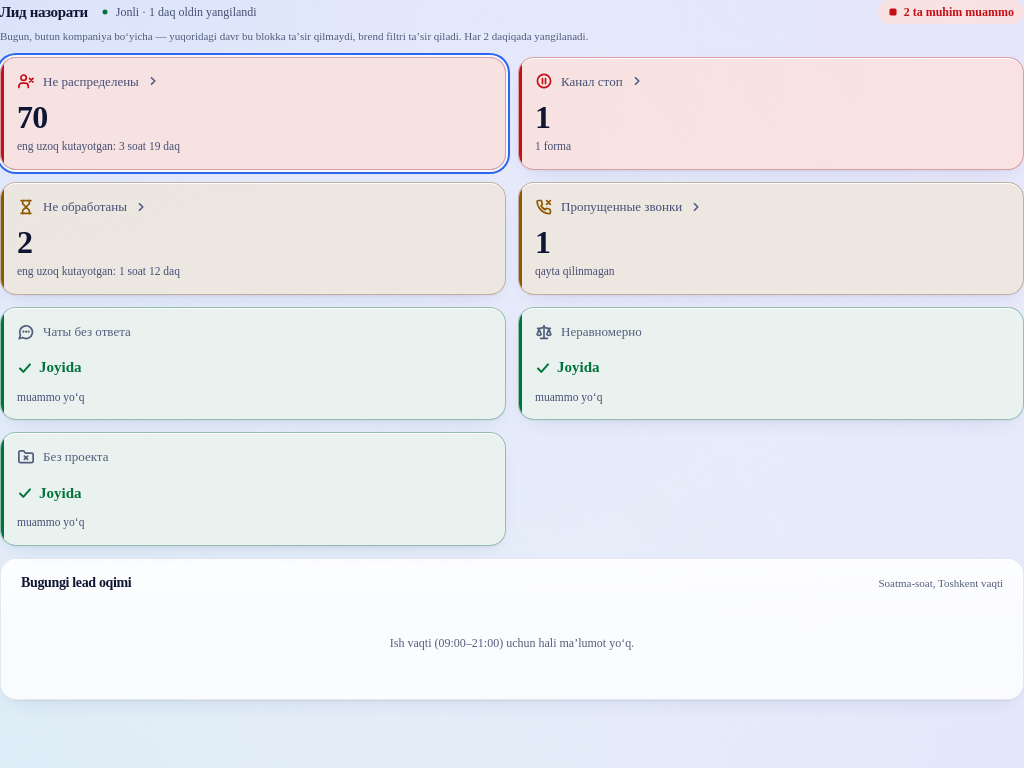
Test: the drawer › lists fifty rows, then twenty more on «Yana 20 ta»
The width and height of the screenshot is (1024, 768).
expect the text "Не распределены" is shown: met, box 43,72 -> 139,91
Step 1. Click the button "Не распределены 70 eng uzoq kutayotgan: 3 soat 19 daq" → {"x": 91, "y": 81}, box 0,56 -> 506,170
(page scrolled)
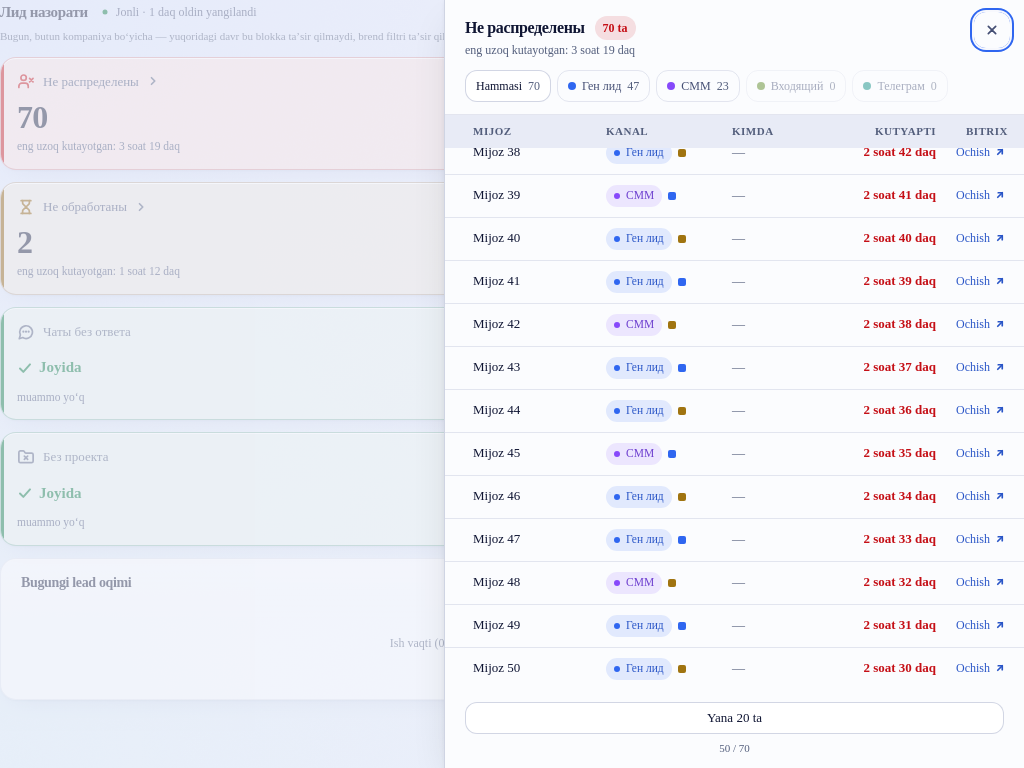
Step 2. Click the button "Yana 20 ta" → {"x": 734, "y": 718}, box 465,702 -> 1004,734
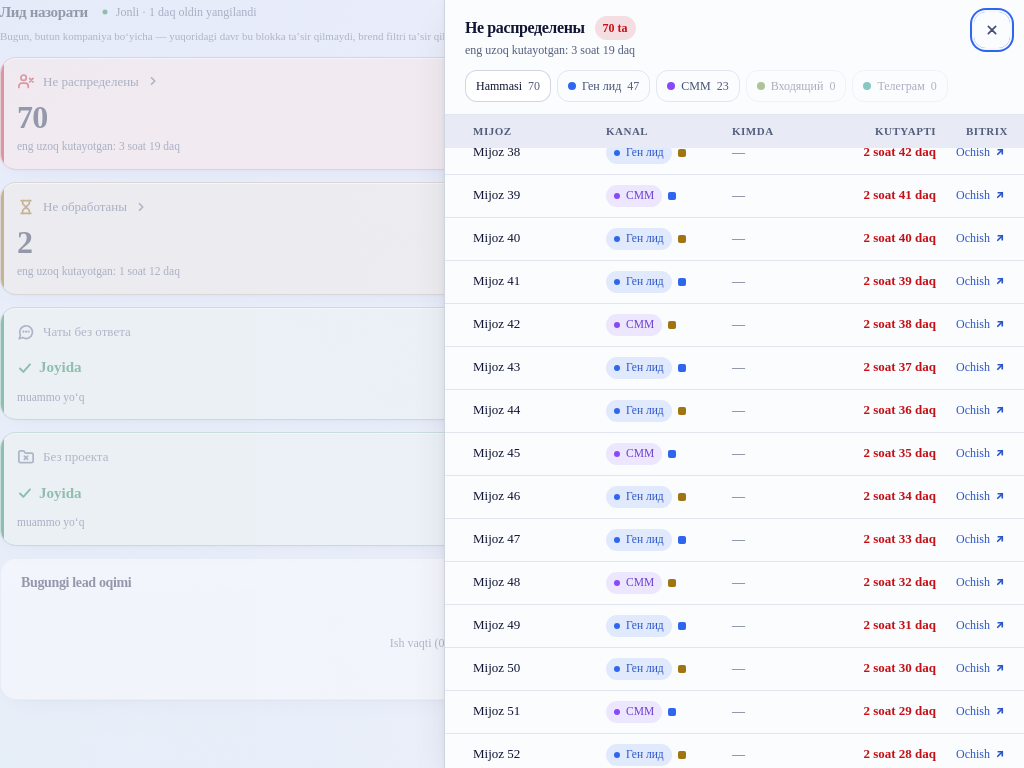
expect the button "Yana" is gone: met
